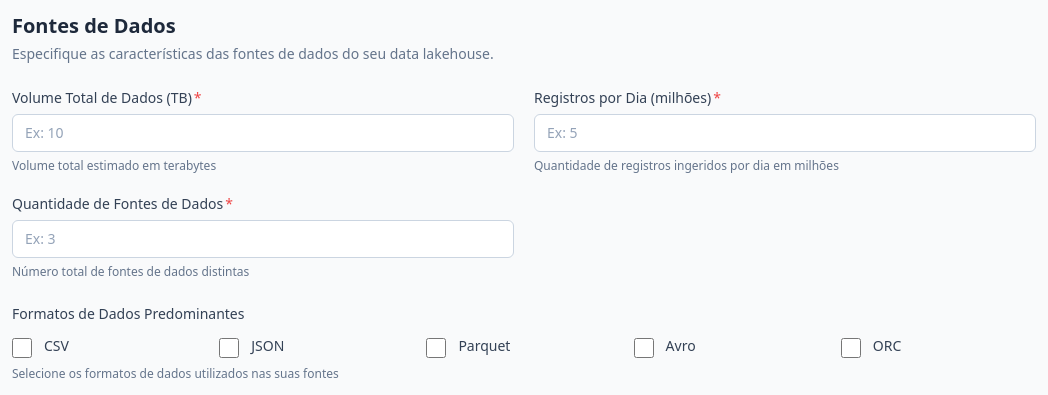
Test: StepSources › shows validation error when volume is zero
The width and height of the screenshot is (1048, 395).
Type "0" into the number field labelled "Volume Total de Dados (TB)*" at (263, 133), box left=12, top=114, right=514, bottom=152
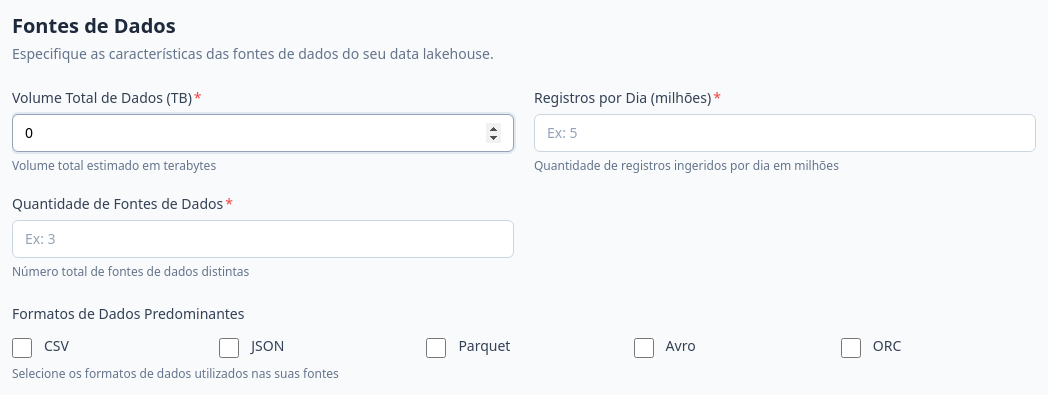
Leave the number field labelled "Volume Total de Dados (TB)*", box left=12, top=114, right=514, bottom=152
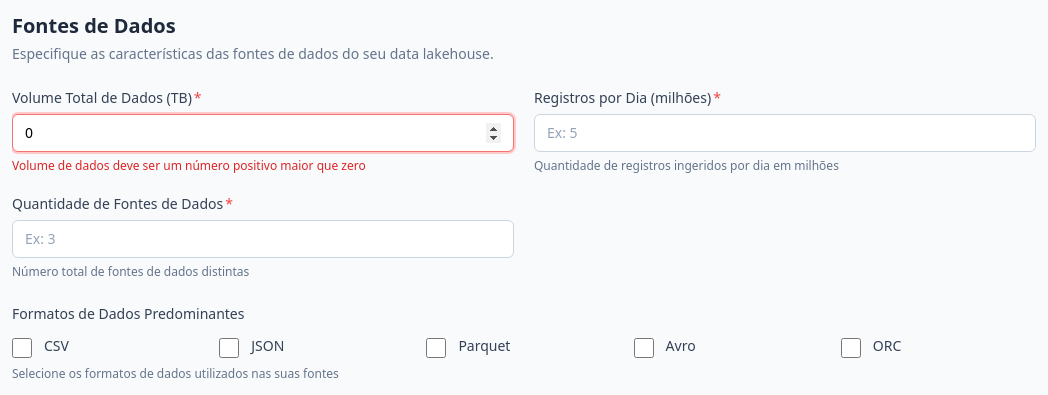
Now the text "Volume de dados deve ser um número positivo maior que zero" is shown, box left=12, top=157, right=366, bottom=174
